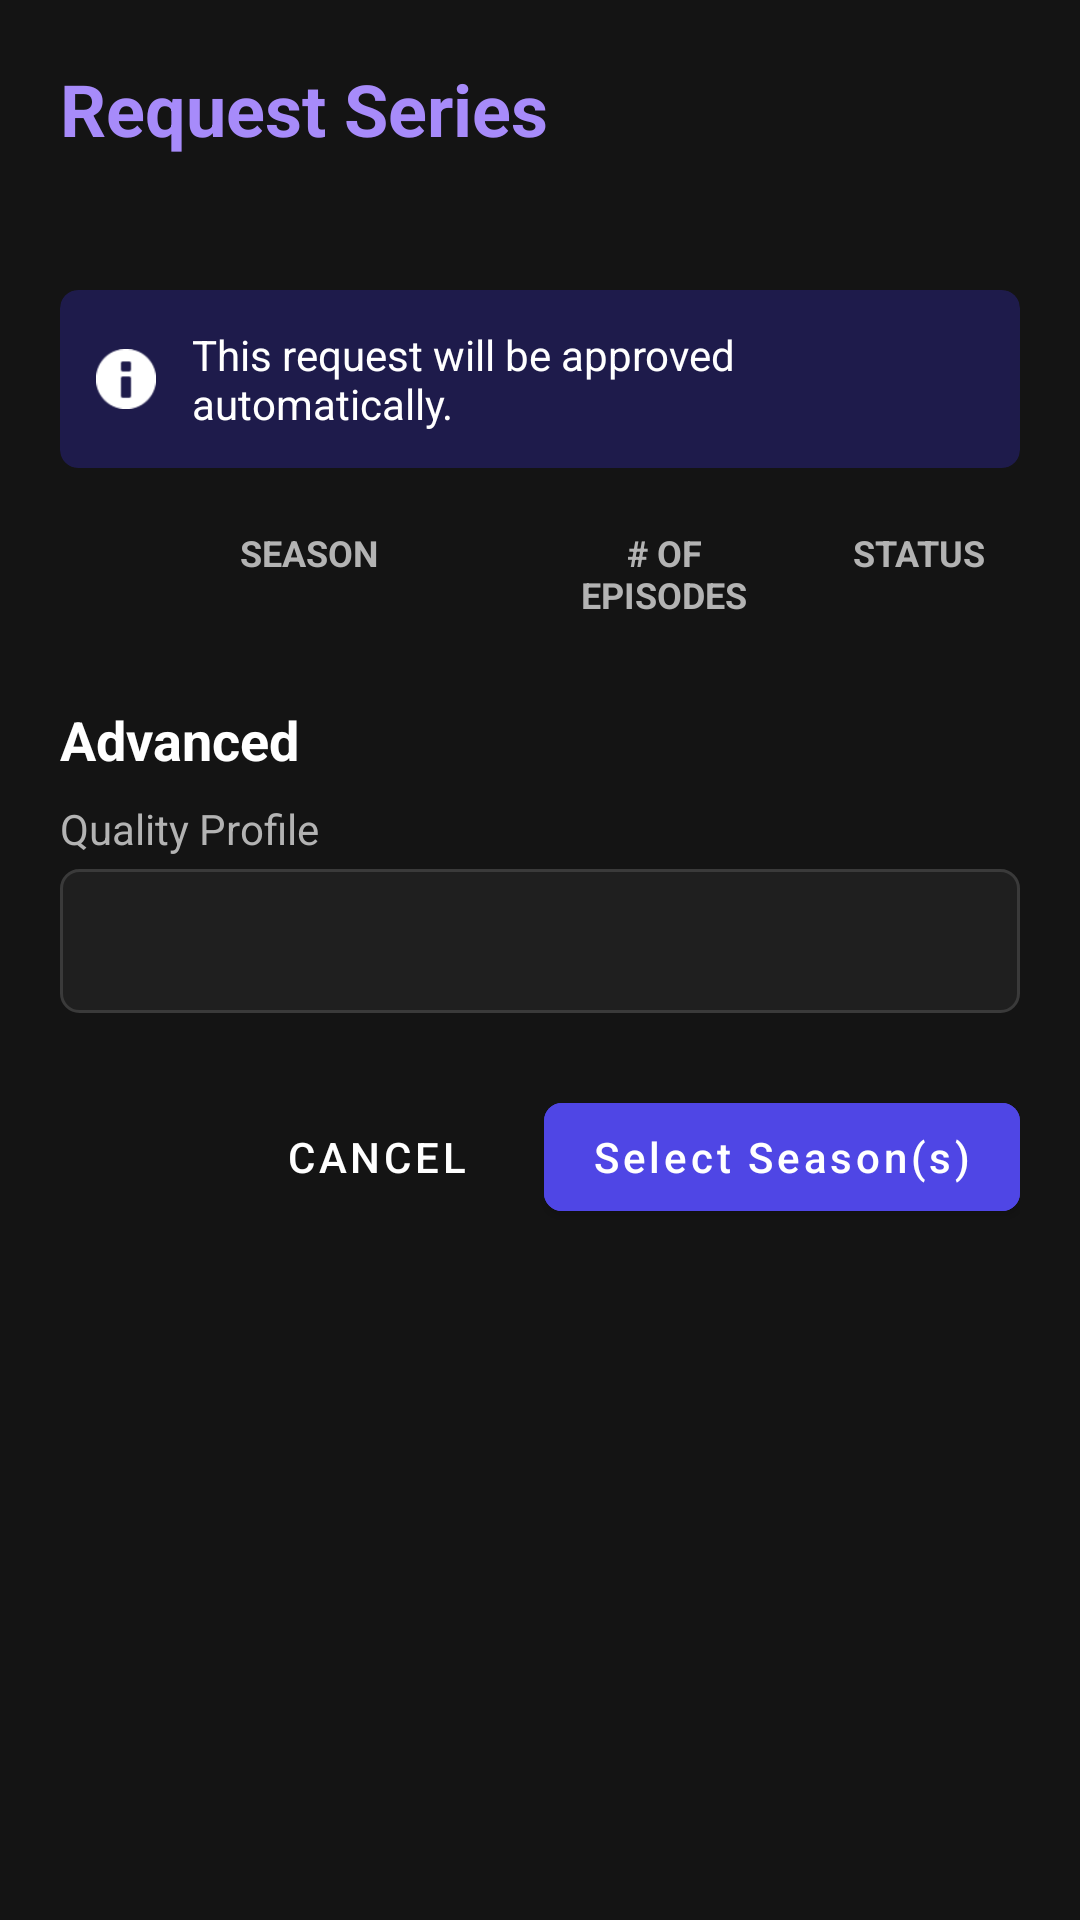

Screen size 1080x1920. Icon name, then its center in pixels as (x=x, y=y):
info: (x=126, y=379)
